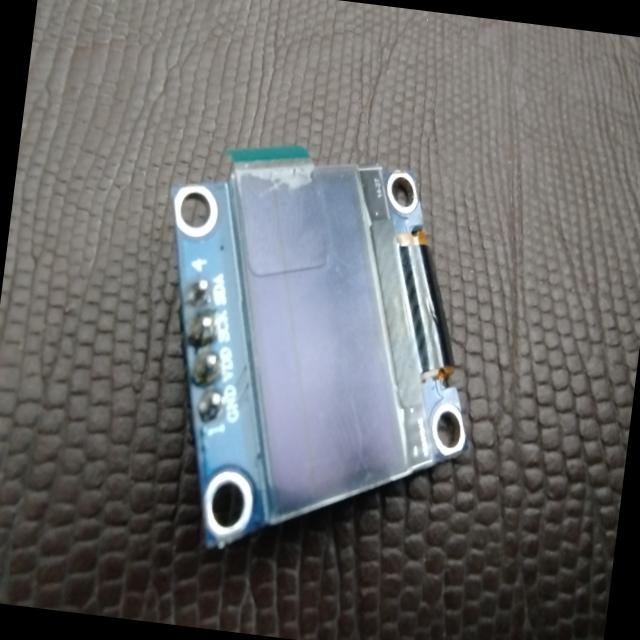oled: (120, 110, 516, 577)
